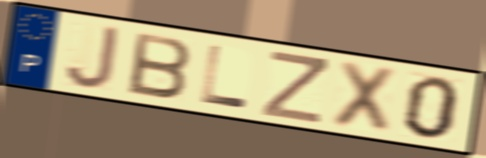0: (402, 74, 463, 142)
B: (126, 30, 195, 101)
J: (62, 24, 122, 91)
L: (198, 42, 251, 112)
X: (328, 58, 401, 137)
Z: (259, 48, 330, 126)
